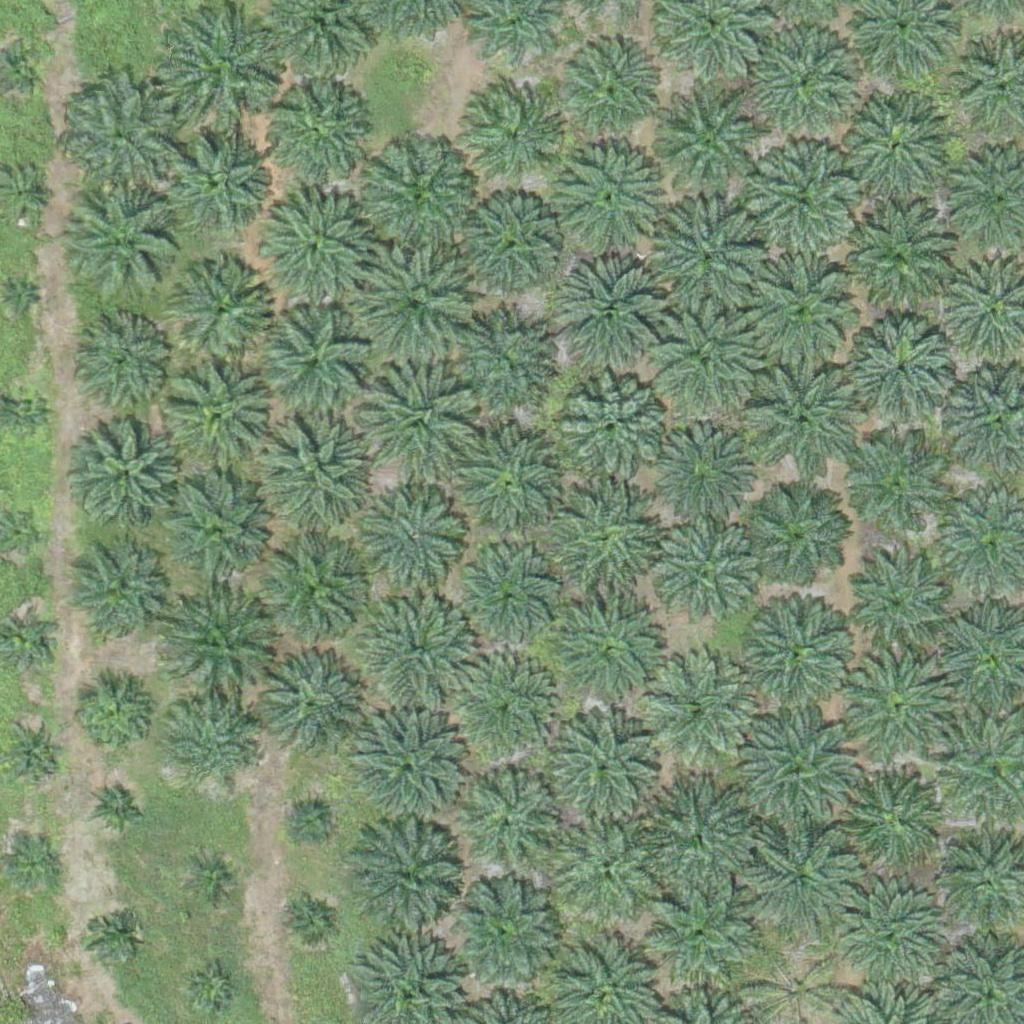Kelapa_Sawit: (163, 7, 288, 133), (353, 240, 478, 366), (355, 130, 480, 256), (541, 481, 666, 607), (551, 591, 676, 717), (250, 408, 375, 534), (357, 356, 482, 482), (536, 699, 661, 825), (365, 593, 478, 707), (839, 648, 952, 762), (656, 90, 769, 203), (650, 203, 763, 316), (549, 137, 662, 250), (649, 311, 762, 424), (743, 254, 856, 367), (255, 188, 368, 301), (254, 305, 367, 418), (848, 548, 961, 661), (741, 594, 854, 707), (747, 369, 860, 482), (643, 414, 756, 527), (251, 649, 364, 762), (443, 649, 556, 762), (552, 810, 665, 923), (643, 878, 756, 991), (637, 780, 750, 893), (550, 259, 662, 373), (257, 537, 369, 651), (165, 593, 277, 707), (161, 477, 273, 591), (164, 360, 276, 474), (643, 649, 755, 763), (743, 709, 855, 823), (838, 886, 950, 1000), (837, 88, 949, 201), (844, 206, 956, 319), (751, 25, 863, 138), (749, 141, 861, 254), (847, 319, 959, 432), (64, 80, 176, 193), (73, 186, 185, 299), (839, 436, 951, 549), (652, 523, 764, 636), (558, 372, 670, 485), (453, 426, 565, 539), (353, 715, 465, 828), (353, 827, 465, 940), (450, 876, 562, 989), (457, 761, 569, 874), (745, 821, 857, 934), (557, 39, 657, 140), (166, 130, 266, 231), (172, 258, 272, 359), (749, 486, 849, 587), (456, 554, 556, 655), (368, 494, 468, 595), (461, 86, 561, 186), (459, 195, 559, 295), (444, 318, 544, 418), (265, 79, 365, 179), (77, 424, 177, 524), (65, 550, 165, 650), (841, 770, 941, 870), (67, 673, 154, 761), (82, 320, 169, 408), (167, 700, 254, 788), (2, 725, 65, 788), (90, 777, 152, 840), (9, 844, 59, 894), (85, 908, 135, 958), (1, 387, 51, 437), (187, 964, 237, 1014), (188, 855, 238, 905), (285, 796, 335, 846), (286, 899, 336, 949), (8, 287, 33, 312)
